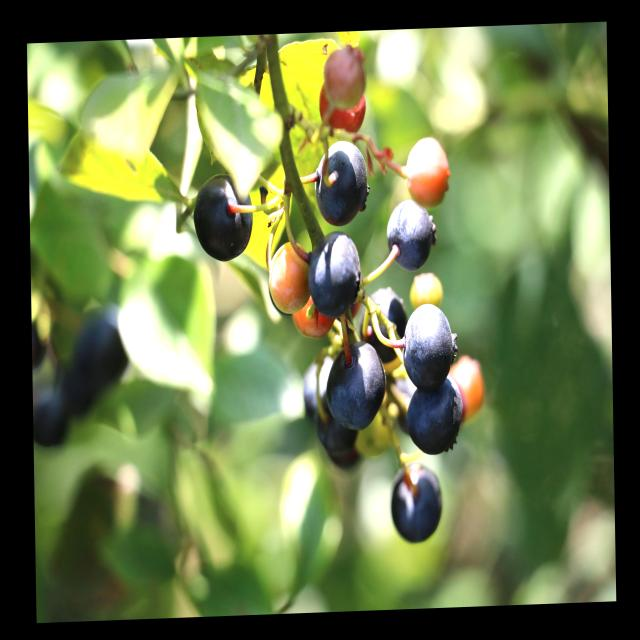blueberry: (322, 336, 390, 438), (305, 137, 377, 229), (69, 294, 140, 387), (398, 296, 462, 398), (190, 167, 255, 266), (303, 227, 363, 323), (404, 376, 467, 467), (387, 456, 446, 546), (384, 191, 440, 280), (354, 279, 411, 366), (296, 342, 344, 436), (312, 388, 360, 456), (324, 424, 372, 479), (33, 387, 72, 454), (61, 366, 100, 422)
blueberry-halfripe: (263, 243, 314, 322), (405, 137, 448, 208), (322, 46, 366, 108), (316, 86, 366, 134), (452, 357, 486, 418)
blueberry-unripe: (407, 269, 443, 317)
